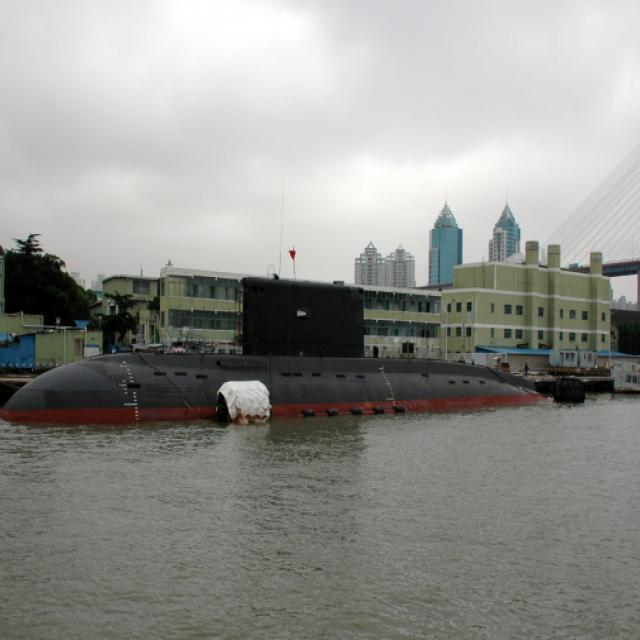submarine: (1, 281, 568, 425)
